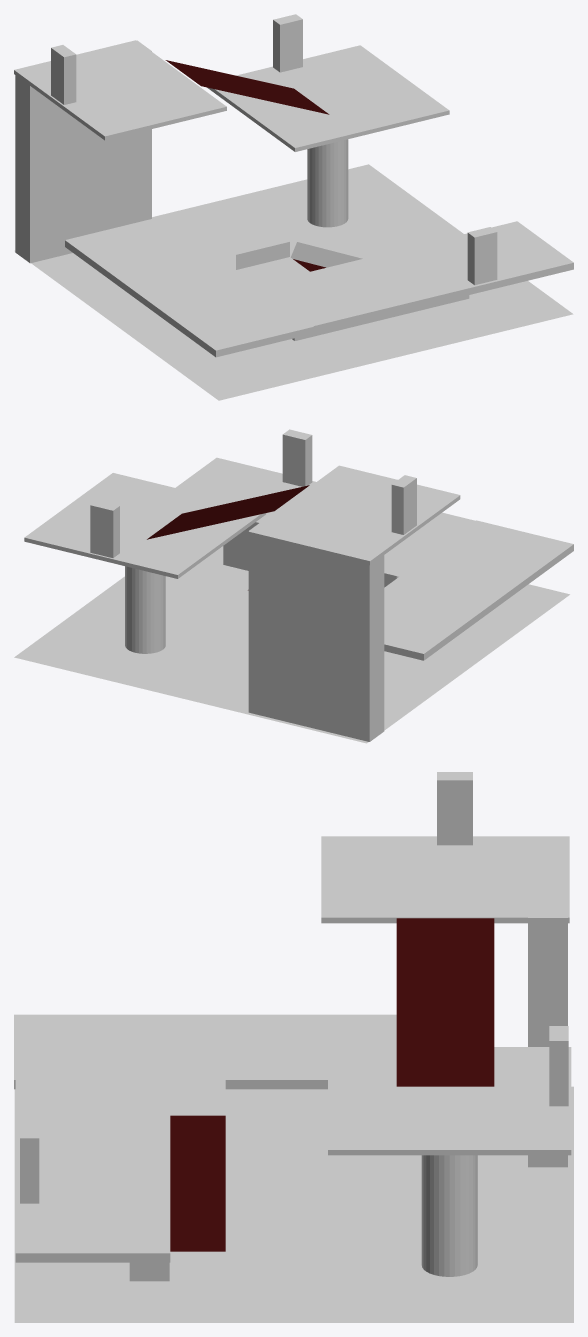
The model's file is Main menu - Colour Castle.glb.
3 renders of one model, top to bottom at view 1: azimuth 30°, elevation 25°; view 2: azimuth 150°, elevation 25°; view 3: azimuth 270°, elevation 25°, orthographic. The views are drawn at different scales.
Parts seen in each view (by area): view 1: Plane, Cube.002, Plane.003, Plane.002, Plane.007, Plane.008, Cylinder, Plane.009, Cube.001, Cube.004, Cube.003, Plane.004 (+3 smaller); view 2: Plane, Cube.002, Plane.003, Plane.007, Plane.008, Plane.002, Cylinder, Plane.009, Cube.001, Cube.004, Cube.003, Cube (+1 smaller); view 3: Plane, Plane.002, Plane.003, Plane.008, Plane.007, Plane.009, Cylinder, Plane.001, Cube.002, Cube.003, Plane.004, Cube.001 (+2 smaller).
Boxes of the visible parts, box(x1,y1,x2,y2) form: Plane: box(14, 164, 573, 400); Cube.002: box(15, 40, 151, 263); Plane.003: box(65, 216, 313, 357); Plane.002: box(260, 221, 573, 332); Plane.007: box(207, 45, 449, 151); Plane.008: box(14, 40, 226, 140); Cylinder: box(307, 88, 348, 227); Plane.009: box(165, 60, 329, 114); Cube.001: box(467, 227, 497, 285); Cube.004: box(273, 14, 302, 72); Cube.003: box(51, 45, 76, 104); Plane.004: box(237, 257, 312, 286); Plane: box(14, 546, 569, 743); Cube.002: box(248, 520, 384, 741); Plane.003: box(384, 520, 573, 660); Plane.007: box(24, 473, 266, 578); Plane.008: box(248, 465, 460, 565); Plane.002: box(175, 457, 475, 562); Cylinder: box(125, 515, 165, 653); Plane.009: box(147, 485, 309, 539); Cube.001: box(282, 429, 312, 486); Cube.004: box(90, 500, 119, 557); Cube.003: box(391, 475, 416, 534); Cube: box(223, 527, 398, 587); Plane: box(14, 1086, 573, 1322); Plane.002: box(15, 1080, 170, 1262); Plane.003: box(14, 1014, 396, 1089); Plane.008: box(321, 836, 569, 923); Plane.007: box(328, 1047, 571, 1155); Plane.009: box(396, 918, 494, 1086); Cylinder: box(421, 1086, 477, 1276); Plane.001: box(170, 1115, 225, 1251); Cube.002: box(528, 917, 567, 1167); Cube.003: box(437, 772, 472, 845); Plane.004: box(163, 1080, 225, 1115); Cube.001: box(20, 1123, 39, 1203).
Size of the model in its own units: 20.22 by 12.43 by 20.03.
